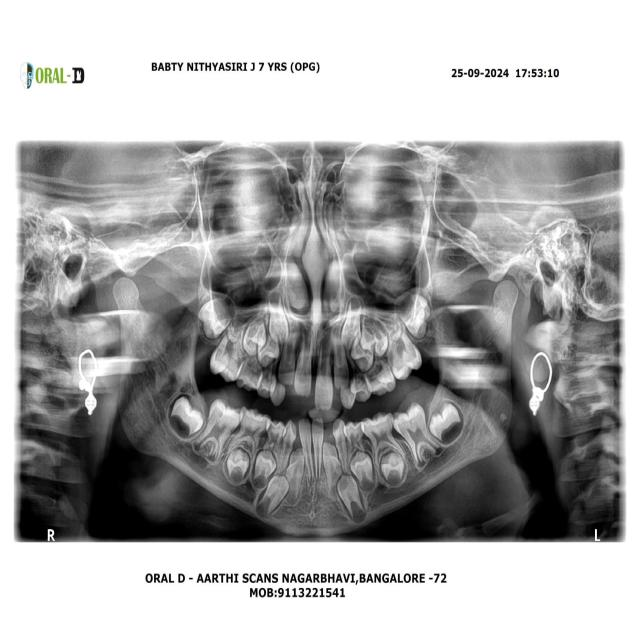Premolars: (342, 417, 368, 465)
